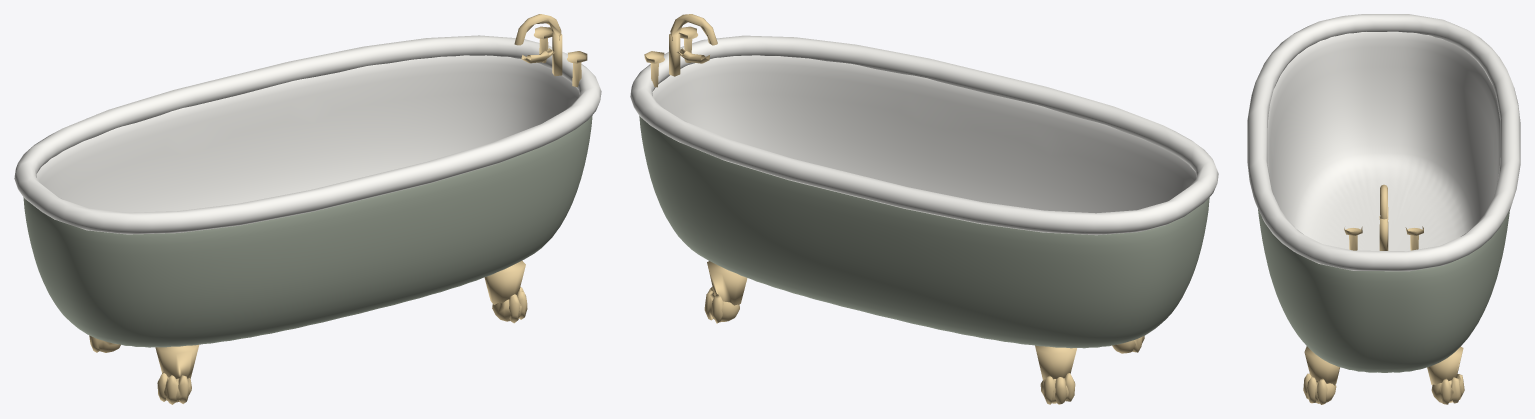
File: clawfoot_tub_procedural.gltf
The picture shows the model from 3 angles, left to right: view 1: azimuth 30°, elevation 25°; view 2: azimuth 150°, elevation 25°; view 3: azimuth 270°, elevation 25°; orthographic projection. The views are drawn at different scales.
Visible parts, largest first — view 1: tub_shell, roll_rim, faucet, claw_foot, claw_foot.002; view 2: tub_shell, roll_rim, faucet, claw_foot.001, claw_foot.003; view 3: tub_shell, roll_rim, claw_foot.002, claw_foot.003, faucet.
Part boxes in pixels (left/top/right/bottom): tub_shell: left=23, top=55, right=592, bottom=347; roll_rim: left=14, top=35, right=601, bottom=234; faucet: left=514, top=14, right=587, bottom=87; claw_foot: left=155, top=345, right=199, bottom=404; claw_foot.002: left=484, top=260, right=527, bottom=323; tub_shell: left=639, top=55, right=1209, bottom=348; roll_rim: left=630, top=35, right=1218, bottom=235; faucet: left=644, top=14, right=717, bottom=87; claw_foot.001: left=1035, top=345, right=1076, bottom=404; claw_foot.003: left=704, top=261, right=747, bottom=323; tub_shell: left=1258, top=31, right=1509, bottom=372; roll_rim: left=1247, top=14, right=1520, bottom=271; claw_foot.002: left=1303, top=346, right=1339, bottom=404; claw_foot.003: left=1427, top=346, right=1464, bottom=404; faucet: left=1344, top=184, right=1423, bottom=250.
Bounding box in the file's own units: 1.72 × 0.792 × 0.8043.
